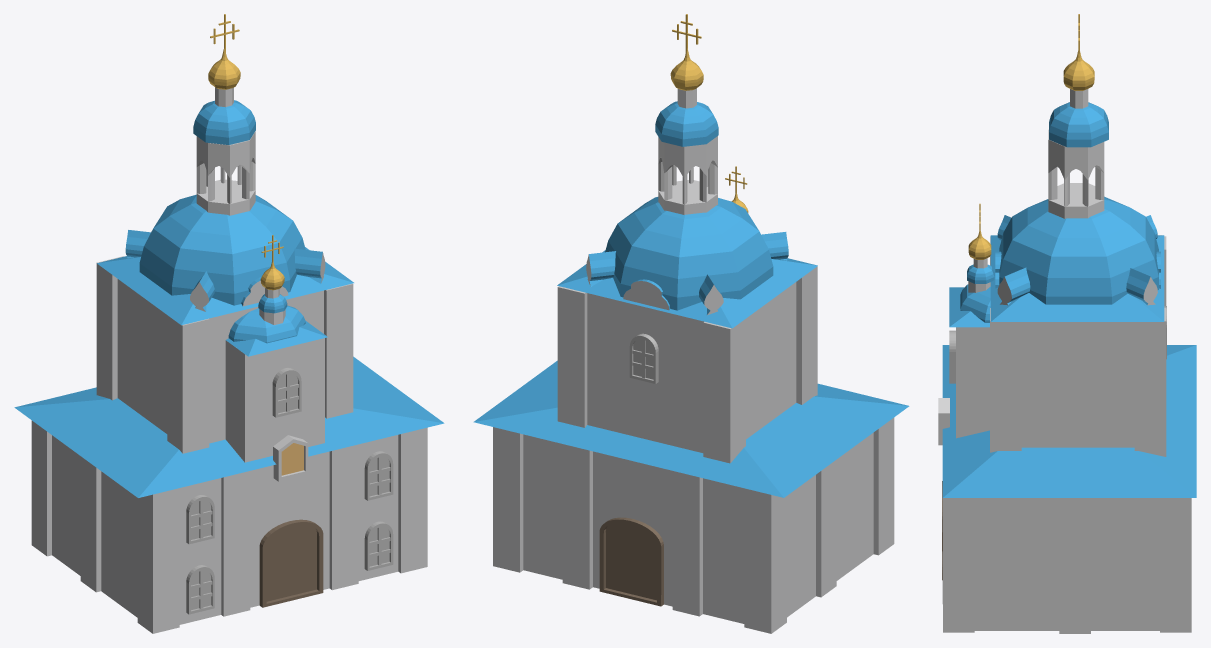
File: zakhariy.glb
The picture shows the model from 3 angles, left to right: view 1: azimuth 30°, elevation 25°; view 2: azimuth 150°, elevation 25°; view 3: azimuth 270°, elevation 25°; orthographic projection. The views are drawn at different scales.
Parts seen in each view (by area): view 1: Cylinder.004, Cylinder.005, Cylinder.018, Cube.098, Cylinder, Cube.022, Cube.021; view 2: Cylinder.004, Cylinder.005, Cube.020, Cylinder, Cube.022, Cylinder.018; view 3: Cylinder.004, Cylinder.005, Cylinder, Cube.022, Cylinder.018, Cube.021.
Part boxes in pixels (bbox=[...]): Cylinder.004: bbox=[31, 87, 427, 633]; Cylinder.005: bbox=[14, 100, 444, 497]; Cylinder.018: bbox=[186, 368, 393, 614]; Cube.098: bbox=[259, 519, 323, 607]; Cylinder: bbox=[125, 230, 325, 311]; Cube.022: bbox=[208, 14, 284, 290]; Cube.021: bbox=[273, 435, 308, 481]; Cylinder.004: bbox=[493, 88, 894, 633]; Cylinder.005: bbox=[473, 101, 909, 497]; Cube.020: bbox=[599, 517, 663, 606]; Cylinder: bbox=[586, 232, 788, 315]; Cube.022: bbox=[670, 14, 748, 212]; Cylinder.018: bbox=[629, 333, 658, 383]; Cylinder.004: bbox=[943, 89, 1191, 633]; Cylinder.005: bbox=[942, 102, 1196, 497]; Cylinder: bbox=[995, 215, 1160, 305]; Cube.022: bbox=[968, 14, 1094, 259]; Cylinder.018: bbox=[942, 306, 1166, 603]; Cube.021: bbox=[938, 398, 949, 445].
Size of the model in its own units: 2.3 by 3.85 by 1.64.
